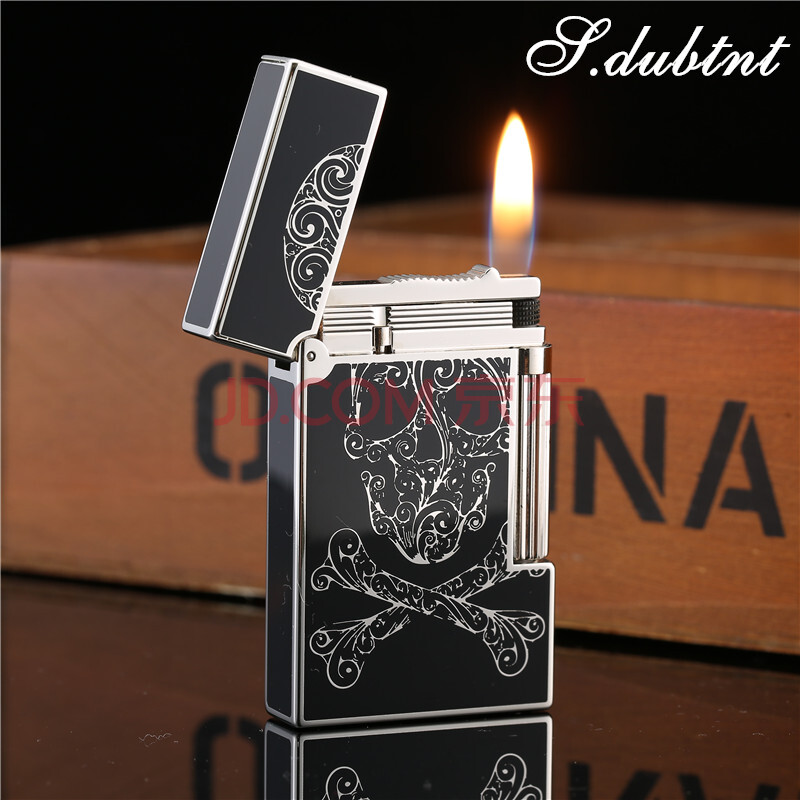Fire: (476, 106, 545, 279)
